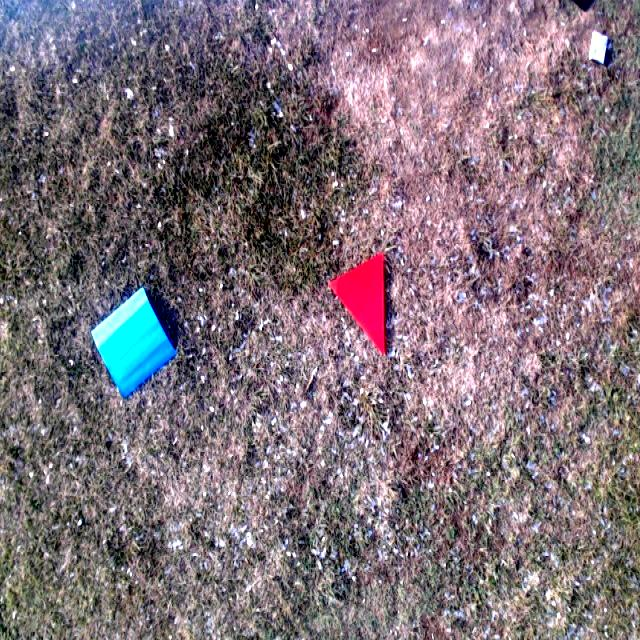blue_square: (88, 287, 176, 399)
red_triangle: (328, 251, 387, 357)
